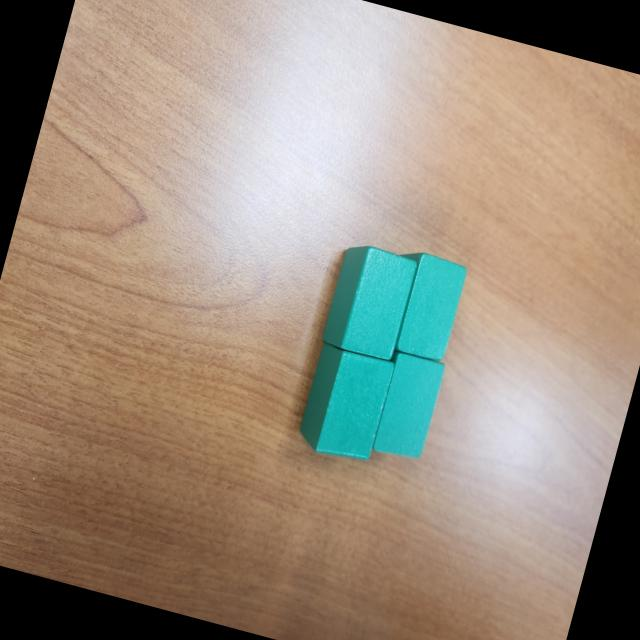green: (292, 341, 396, 470), (320, 237, 420, 363), (372, 244, 470, 364), (367, 349, 447, 462)
